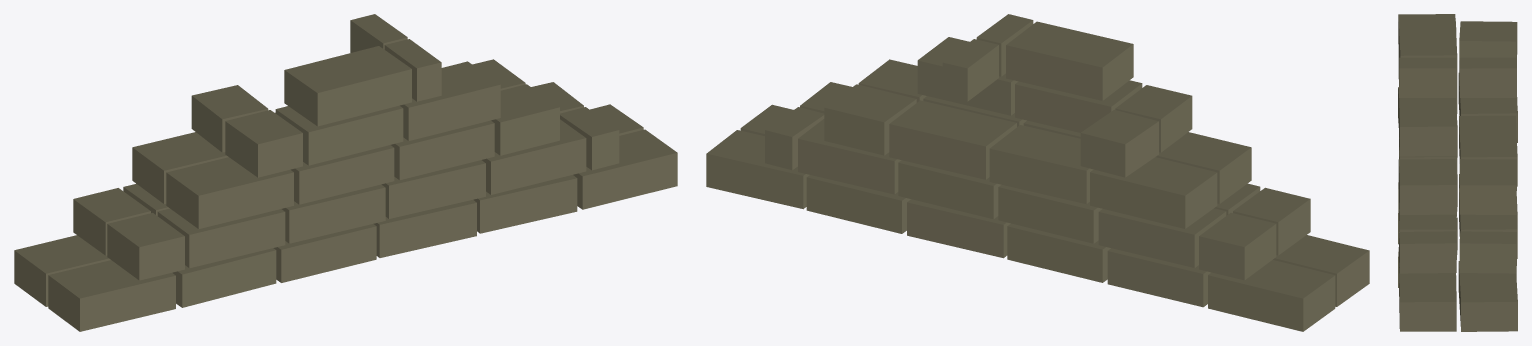
The model's file is SM_PretilTramo_v1_Talud_e1_Danado_LOD0.fbx.
3 views of the same model, side by side, from view 1: azimuth 30°, elevation 25°; view 2: azimuth 150°, elevation 25°; view 3: azimuth 270°, elevation 25° (orthographic). The views are drawn at different scales.
Parts seen in each view (by area): view 1: SM_pretil_azotea_v5_LOD0; view 2: SM_pretil_azotea_v5_LOD0; view 3: SM_pretil_azotea_v5_LOD0.
Part boxes in pixels (x1,y1,x2,y2): SM_pretil_azotea_v5_LOD0: [14, 14, 677, 331]; SM_pretil_azotea_v5_LOD0: [706, 14, 1369, 331]; SM_pretil_azotea_v5_LOD0: [1398, 14, 1517, 331].
Size of the model in its own units: 5.07 by 1.47 by 0.9919.
